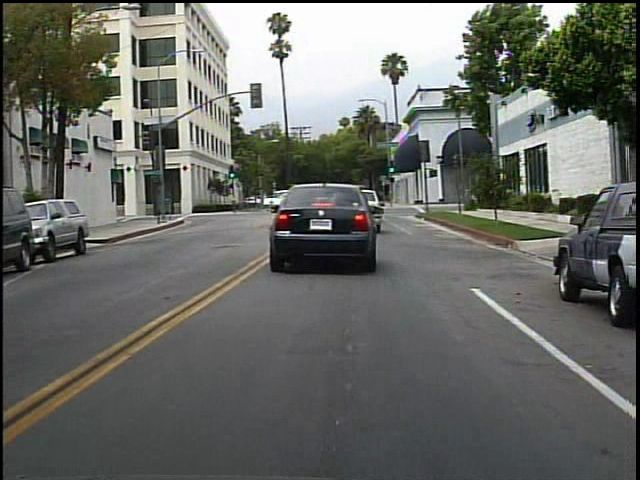person: (284, 185, 309, 221)
